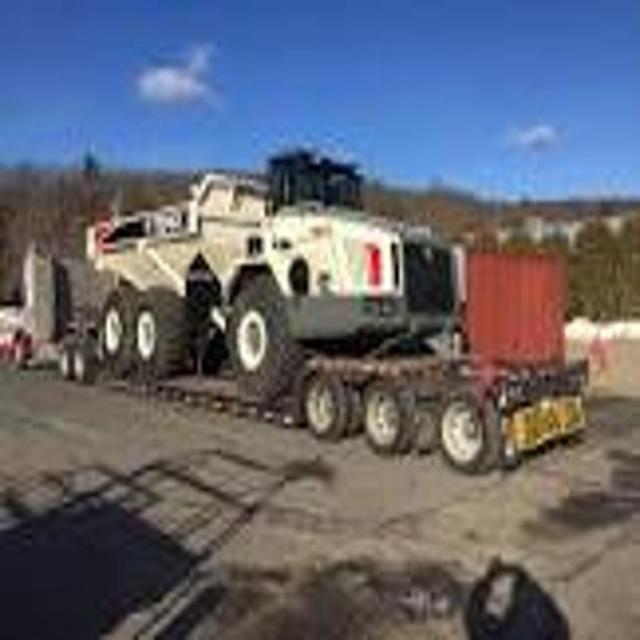dump_truck: (86, 144, 461, 398)
